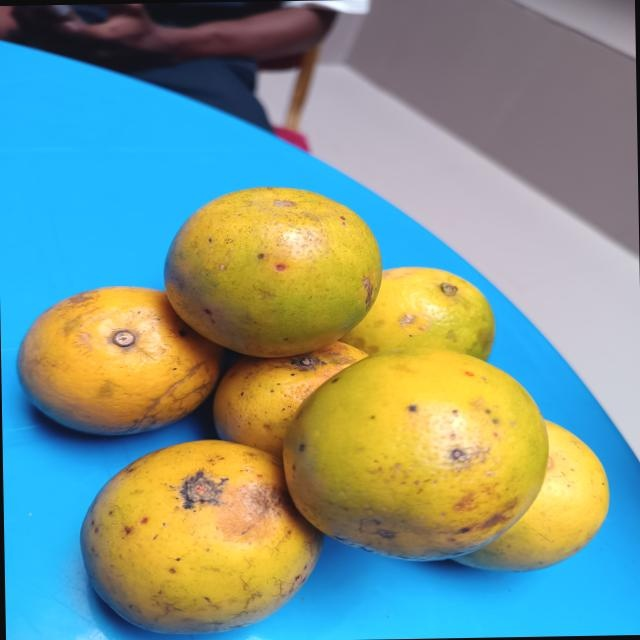agrume: (282, 353, 558, 555), (61, 432, 312, 635), (158, 170, 394, 366), (16, 276, 252, 448), (428, 423, 621, 577), (328, 263, 517, 361)
